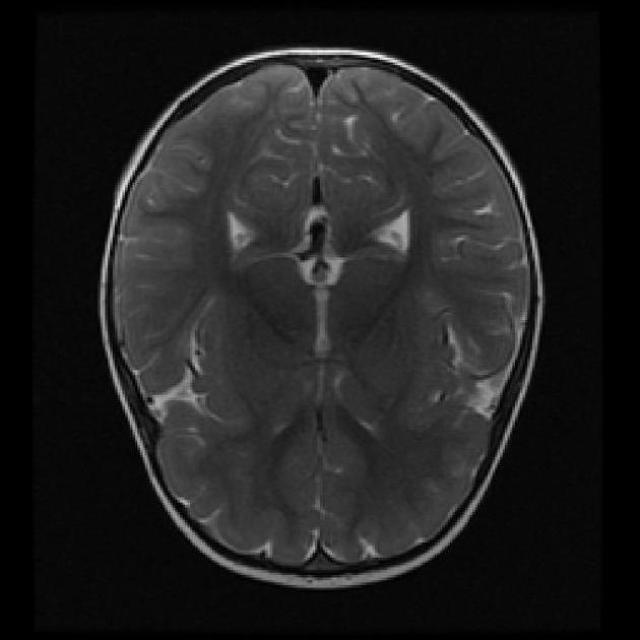notumor: (100, 50, 542, 586)
